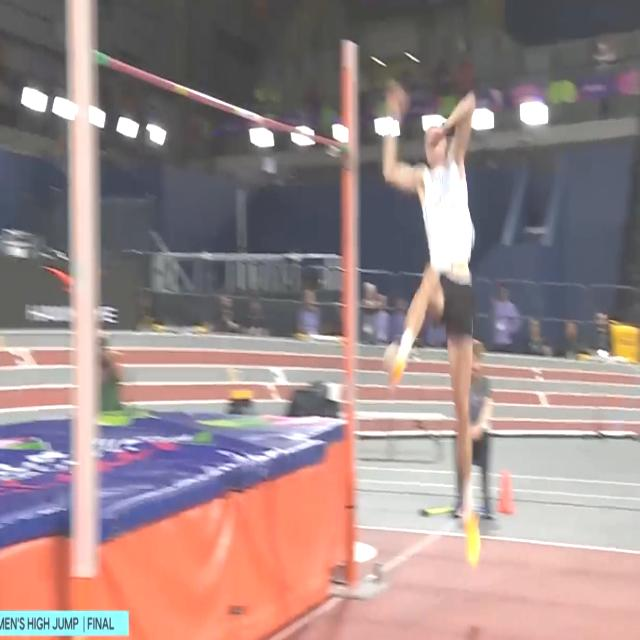jump: (382, 80, 480, 568)
